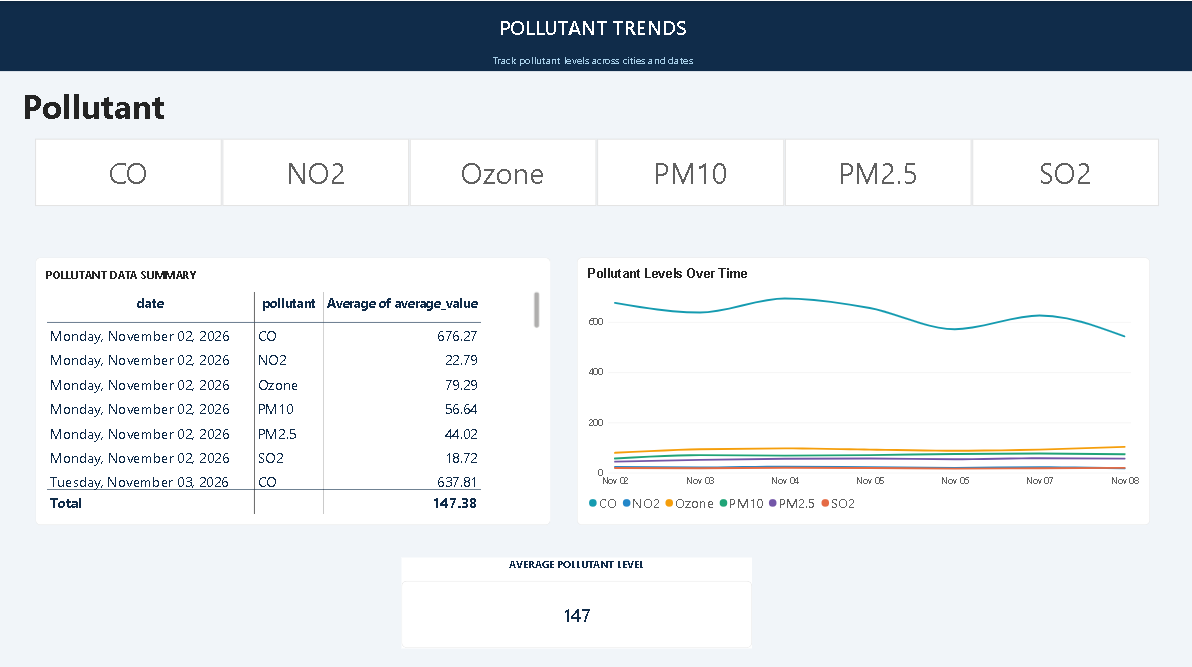

Layout of this report page (visuals, bound fields, positions):
{"tool":"powerbi","page":{"name":"Pollutant Trends","canvas":[1920,1080],"ordinal":2},"visuals":[{"type":"shape","box":[0,0,1919,112],"z":0},{"type":"textbox","box":[0,0,1920,132.5],"z":1000},{"type":"lineChart","title":"Pollutant Levels Over Time","fields":{"Category":["gold_pollutant_trends.date"],"Series":["gold_pollutant_trends.pollutant"],"Y":["Avg(gold_pollutant_trends.average_value)"]},"box":[935,410,915,427.5],"z":2000},{"type":"slicer","title":"Pollutant","fields":{"Values":["gold_pollutant_trends.pollutant"]},"box":[47.5,132.5,1835,197.5],"z":3000},{"type":"cardVisual","title":"AVERAGE POLLUTANT LEVEL","fields":{"Data":["gold_city_daily.Average Pollutant Value"]},"box":[655,890,560,145],"z":3001},{"type":"tableEx","title":"POLLUTANT DATA SUMMARY","fields":{"Values":["gold_pollutant_trends.date","gold_pollutant_trends.pollutant","Avg(gold_pollutant_trends.average_value)"]},"box":[70,410,822.5,427.5],"z":3002}]}

Visuals, with their boxes in screenshot pixels (x1, y1, x2, y2), scaled from the page's 1920x1080 canvas onto the 1192x667 screenshot:
shape: bbox(0, 0, 1191, 69)
textbox: bbox(0, 0, 1191, 82)
"Pollutant Levels Over Time" lineChart: bbox(580, 253, 1149, 517)
"Pollutant" slicer: bbox(29, 82, 1169, 204)
"AVERAGE POLLUTANT LEVEL" cardVisual: bbox(407, 550, 754, 639)
"POLLUTANT DATA SUMMARY" tableEx: bbox(43, 253, 554, 517)
